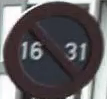No waiting: (6, 2, 101, 95)
